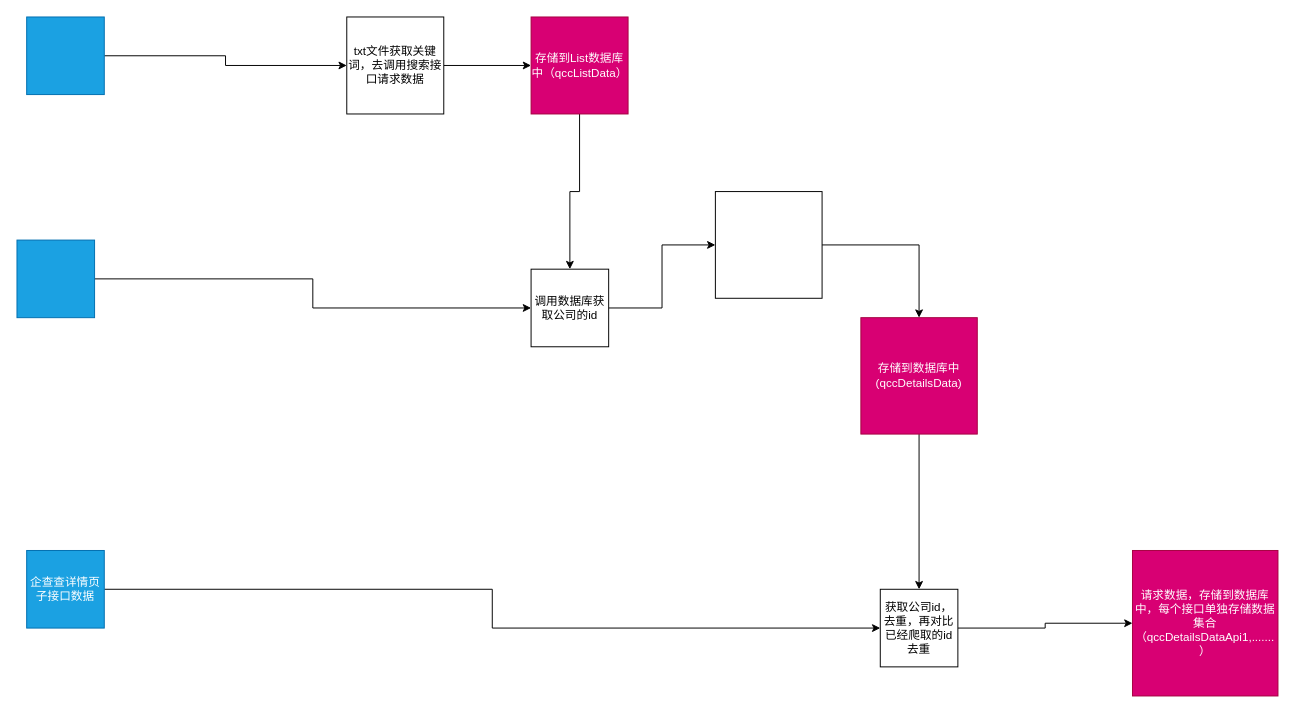
The diagram is 1295 pixels wide and 713 high, and some of its shapes have lost their labels. The centre of each missing label's shape, as x and y in pixels:
"企查查列表页" goes at [65,55].
"企查查详情页" goes at [55,278].
"请求详情页数据" goes at [768,244].
